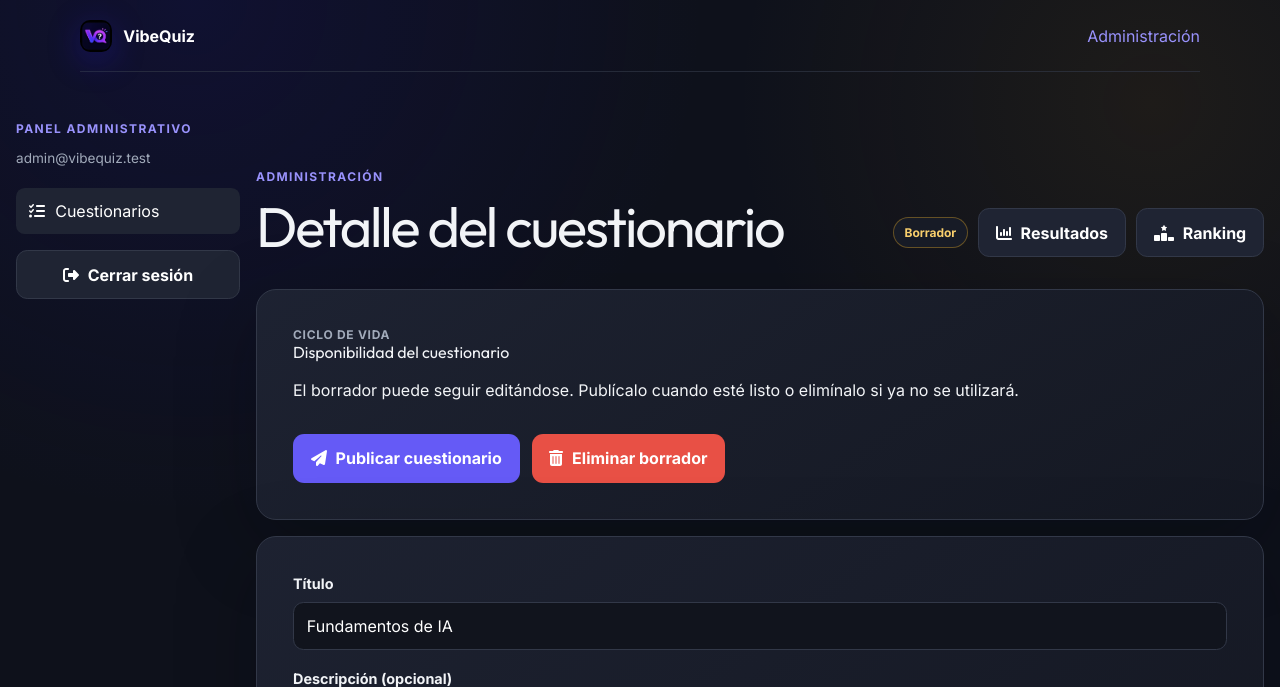
Test: administrative quiz lifecycle › clears the session when a lifecycle action receives a 401
Click the button "Publicar cuestionario": click(406, 458) [293, 434, 520, 483]
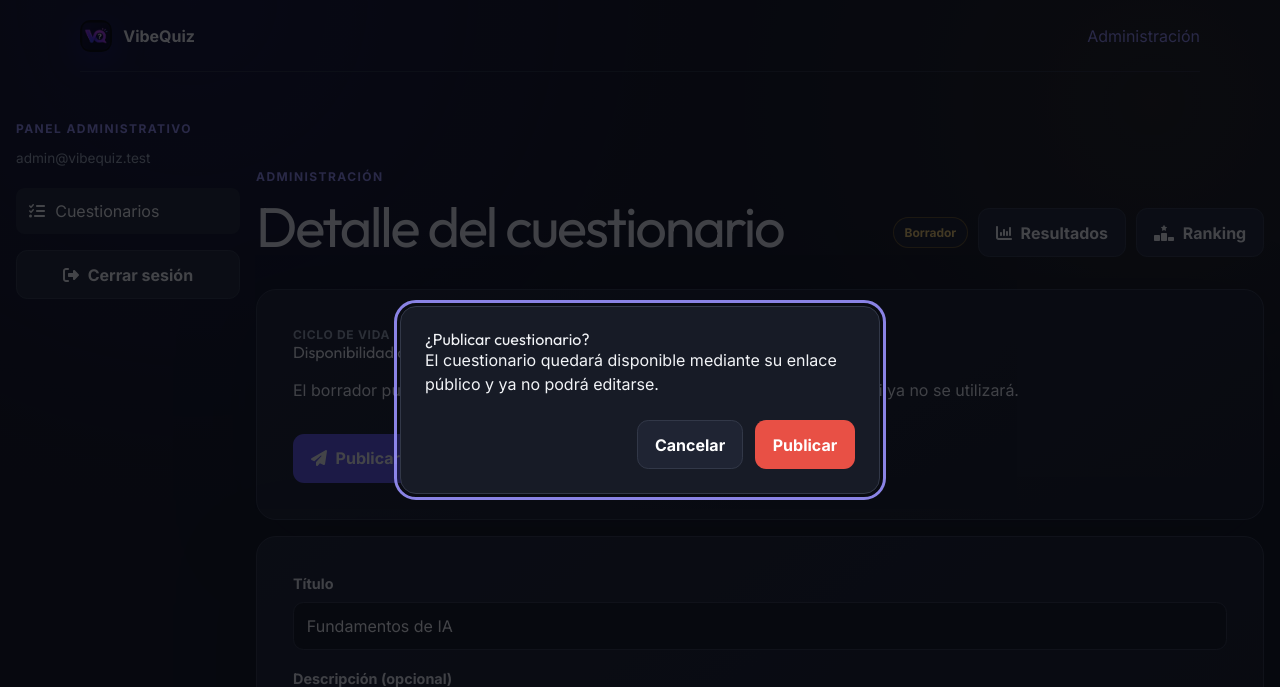
Click the button "Publicar": click(805, 445) [755, 420, 855, 469]
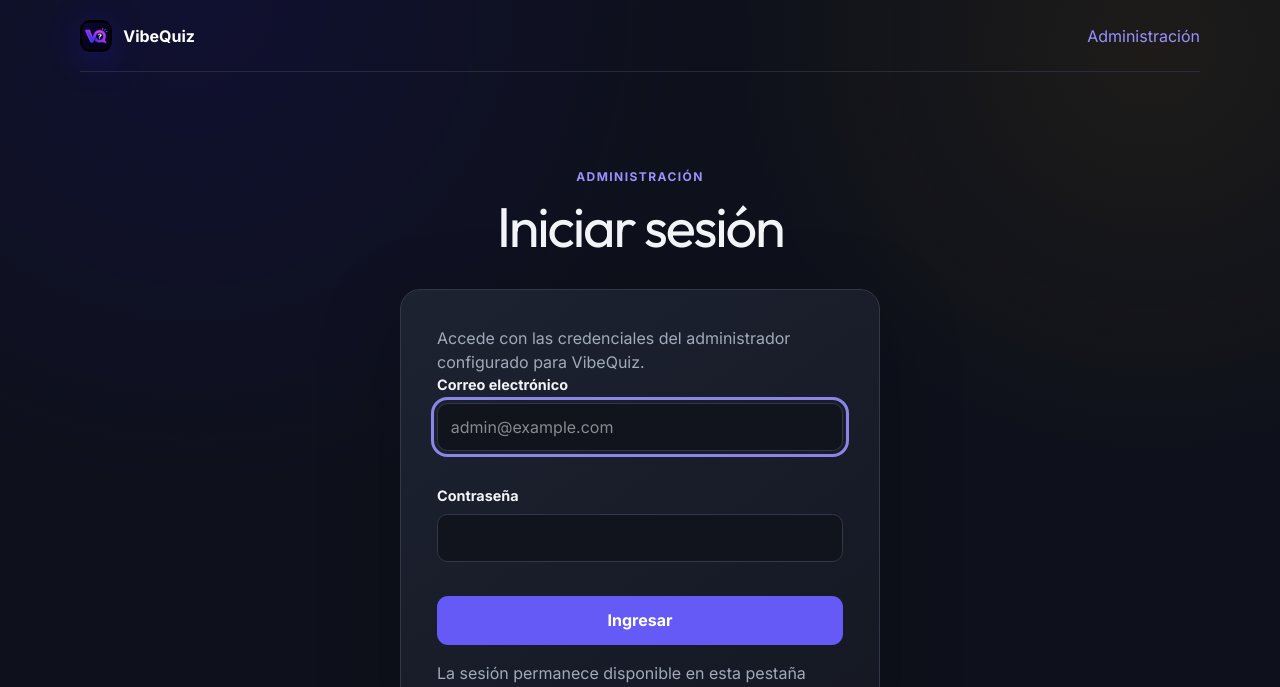
Expected: the heading "Iniciar sesión" is shown, [497, 196, 783, 257]
